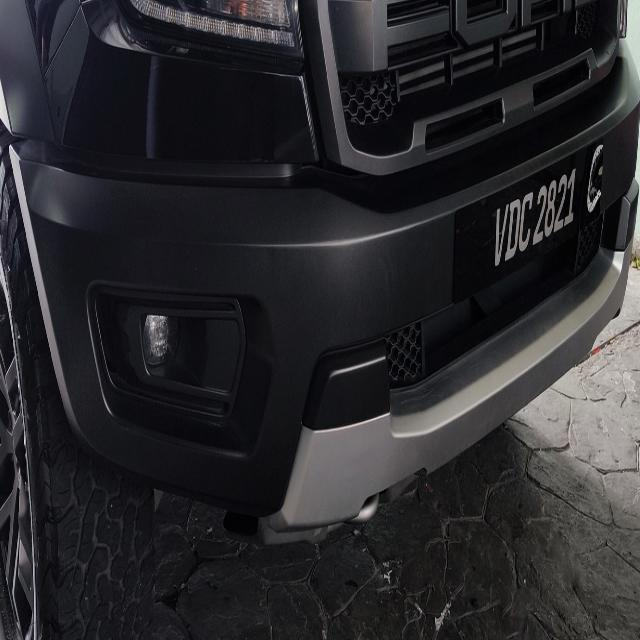car-plate: (458, 123, 605, 326)
